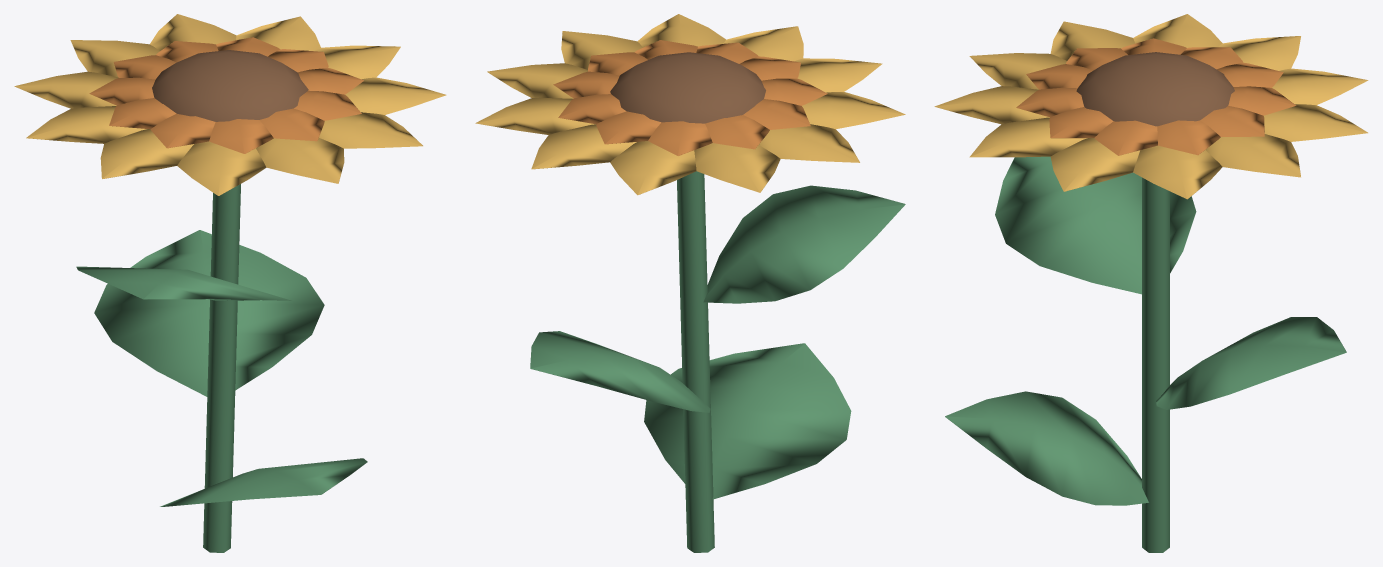
File: sunburst-flower.glb
3 renders of one model, left to right at view 1: azimuth 30°, elevation 25°; view 2: azimuth 150°, elevation 25°; view 3: azimuth 270°, elevation 25°, orthographic.
Visible parts, largest first — view 1: Vesper / sunburst-flower; view 2: Vesper / sunburst-flower; view 3: Vesper / sunburst-flower.
Part boxes in pixels (x1=…): Vesper / sunburst-flower: x1=14, y1=14, x2=446, y2=552; Vesper / sunburst-flower: x1=475, y1=14, x2=905, y2=552; Vesper / sunburst-flower: x1=934, y1=14, x2=1368, y2=552.
Size of the model in its own units: 1.56 by 1.91 by 1.54.
